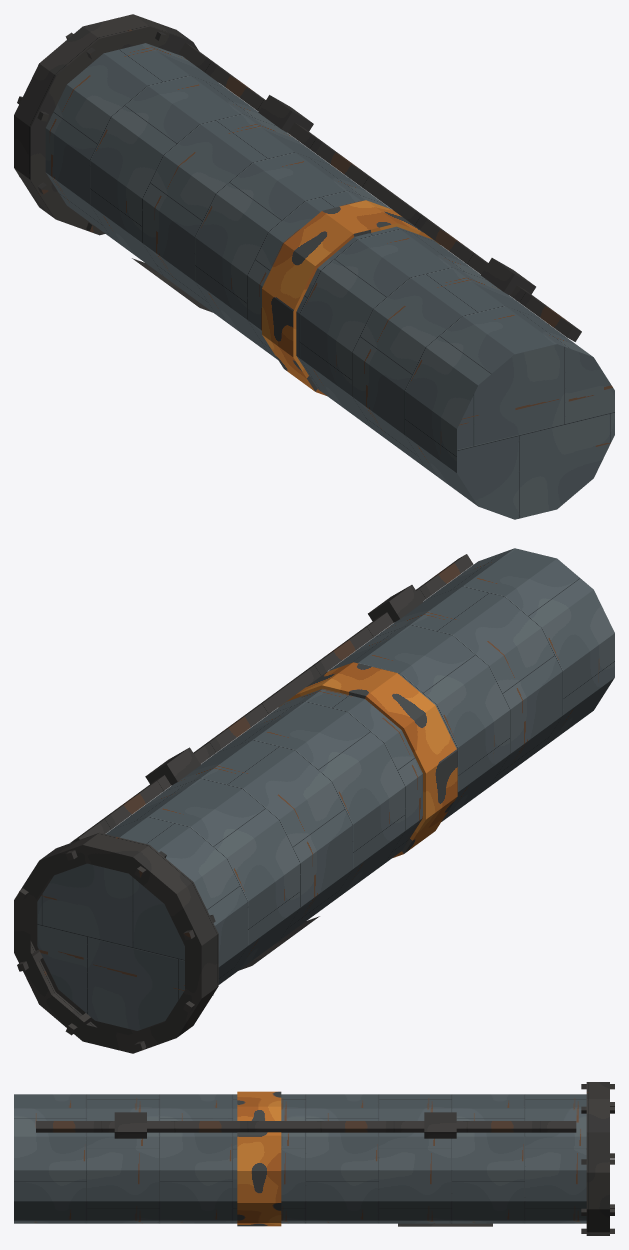
File: pipe_straight_8m_v1.fbx
3 renders of one model, top to bottom at view 1: azimuth 30°, elevation 25°; view 2: azimuth 150°, elevation 25°; view 3: azimuth 270°, elevation 25°, orthographic. The views are drawn at different scales.
Visible parts, largest first — view 1: pipe_straight_8m_v1_lod0; view 2: pipe_straight_8m_v1_lod0; view 3: pipe_straight_8m_v1_lod0.
Part boxes in pixels (box(x1,y1,x2,y2)): pipe_straight_8m_v1_lod0: box(14, 14, 614, 519); pipe_straight_8m_v1_lod0: box(14, 548, 614, 1053); pipe_straight_8m_v1_lod0: box(14, 1082, 614, 1235).
Size of what is drawn, in the model's own units: 207 by 207 by 823.
